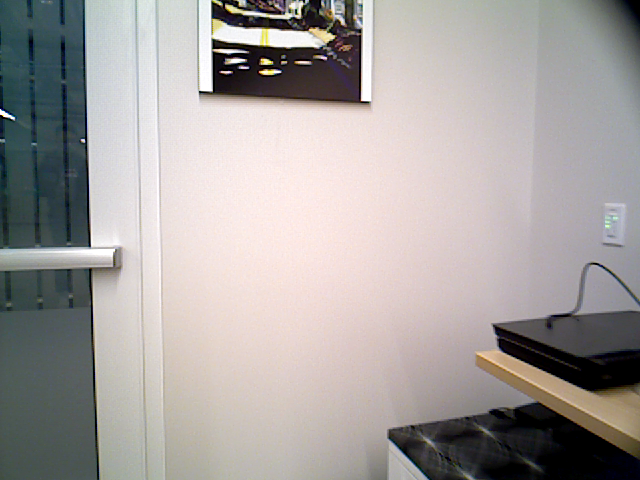painting3: (196, 1, 370, 101)
